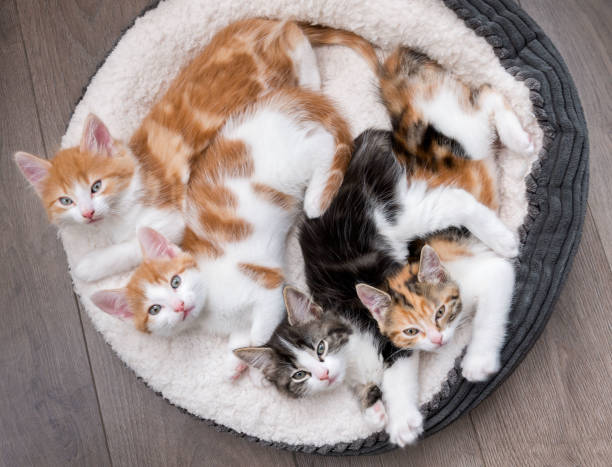cat: (12, 2, 380, 284), (230, 121, 524, 447), (88, 84, 357, 391), (353, 42, 542, 386)
